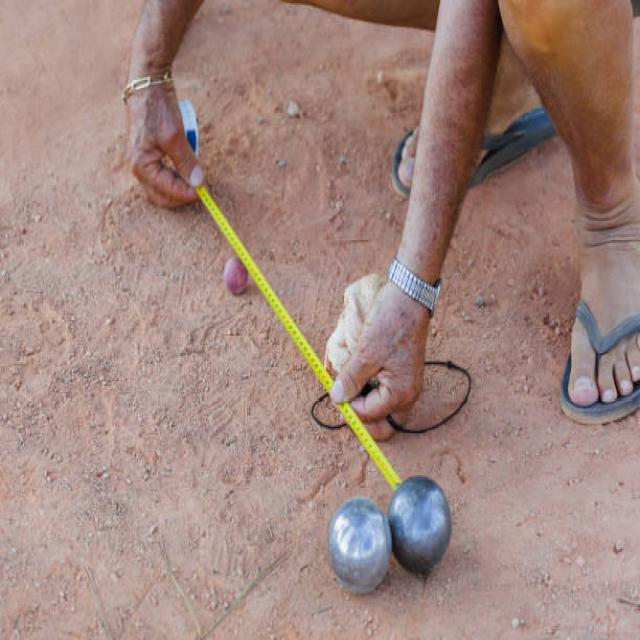hatball: (217, 254, 252, 300)
petanque: (385, 471, 458, 578), (323, 495, 392, 600)
